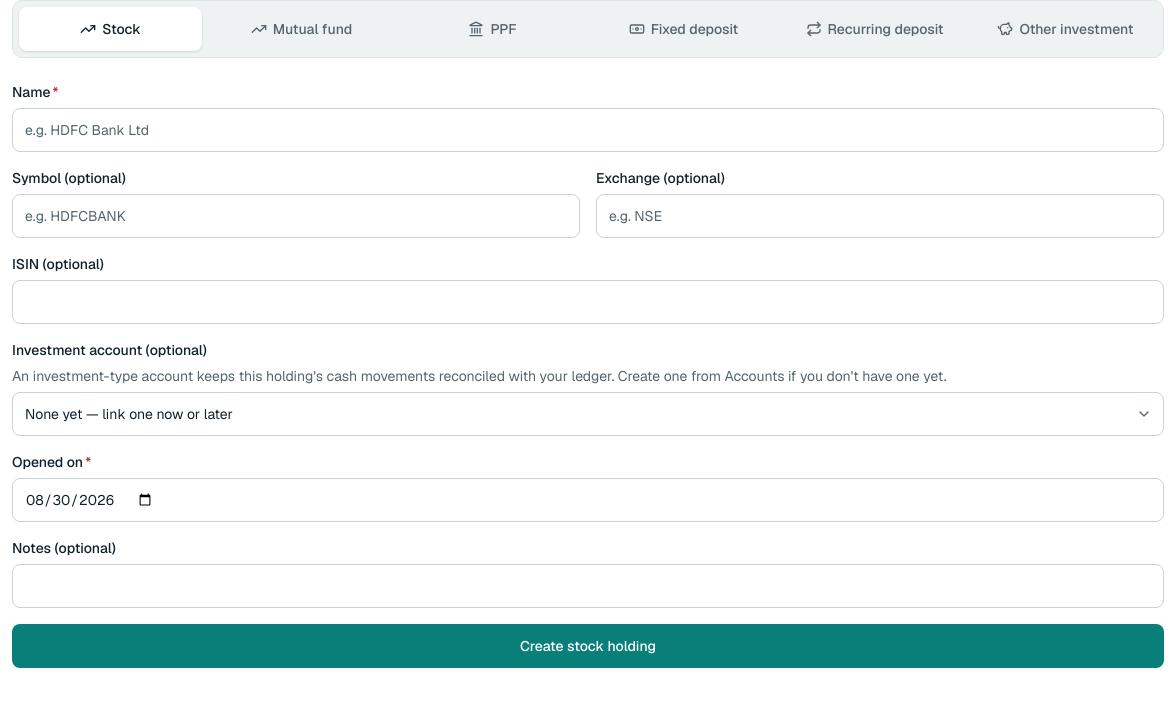
Test: NewInvestmentForm › switches to the other-investment form
Click the radio button labelled "Other investment": coordinates (1066, 29) [974,7,1157,51]
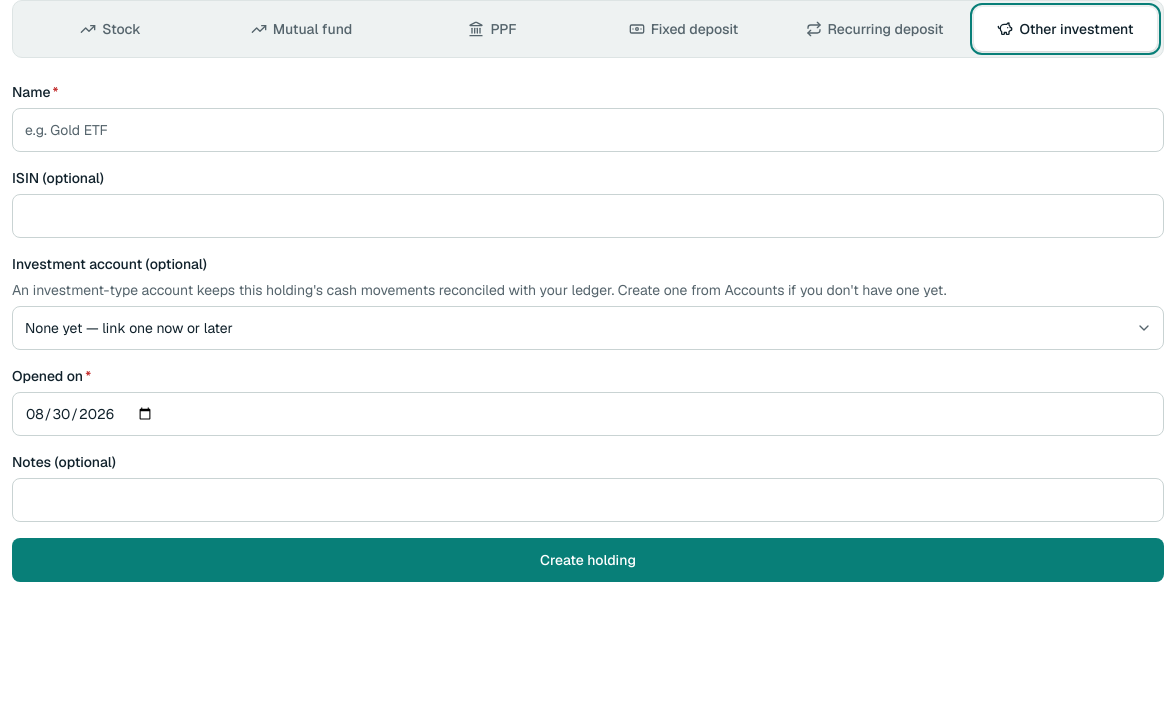
Expected: the button "Create holding" is shown, [12,538,1164,582]
